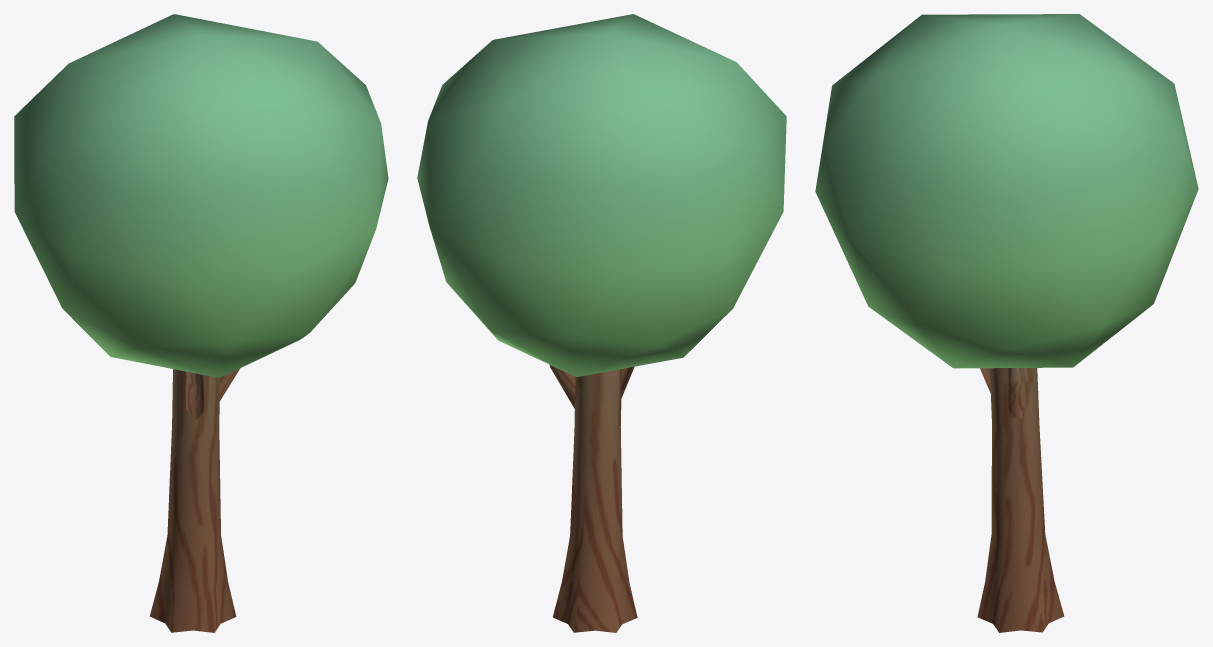
Rendered from BigTree.fbx.
3 views of the same model, side by side, from view 1: azimuth 30°, elevation 25°; view 2: azimuth 150°, elevation 25°; view 3: azimuth 270°, elevation 25° (orthographic). The views are drawn at different scales.
Parts seen in each view (by area): view 1: BigTree; view 2: BigTree; view 3: BigTree.
Part boxes in pixels (box(x1,y1,x2,y2)): BigTree: box(14, 14, 388, 632); BigTree: box(417, 14, 786, 632); BigTree: box(815, 14, 1198, 632).
Bounding box in the file's own units: 445 × 782 × 460.
